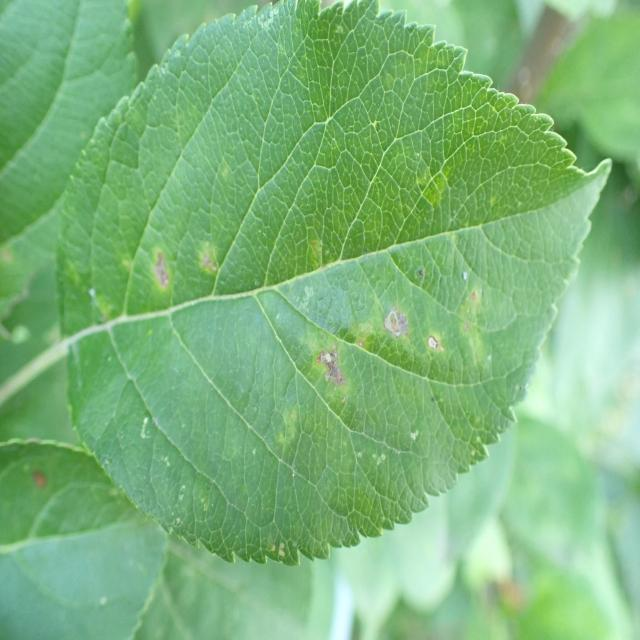frog-eye-leaf-spot: (55, 0, 614, 566)
